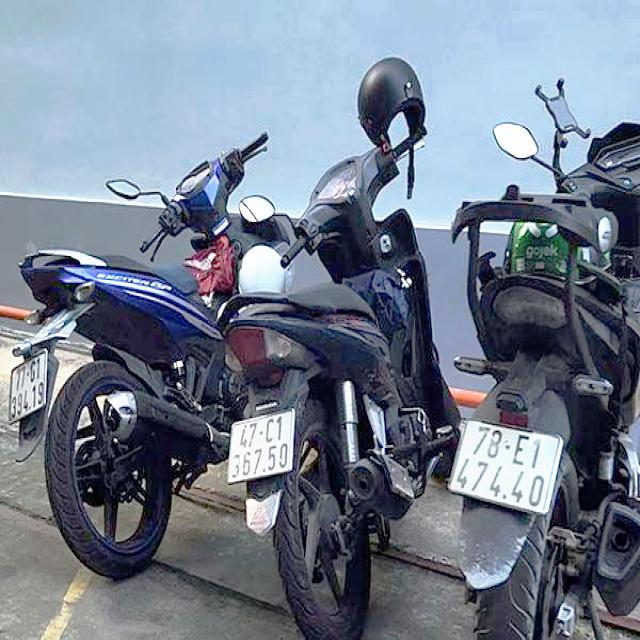license_plate: (452, 424, 563, 515), (230, 407, 295, 482), (9, 349, 48, 424)
